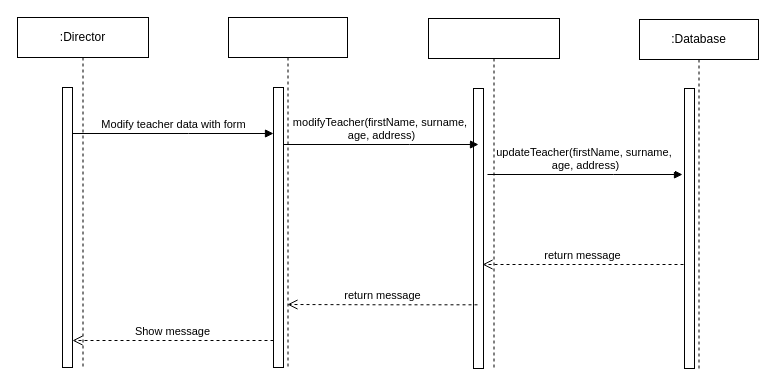
This 776x386 diagram has some shape labels left out. The shapes that lost their labels are listed below. From the top down, each one's centre as x and y in pixels, then its label:
At point (288, 192): ":ApplicationIHM".
At point (494, 193): ":Control".
